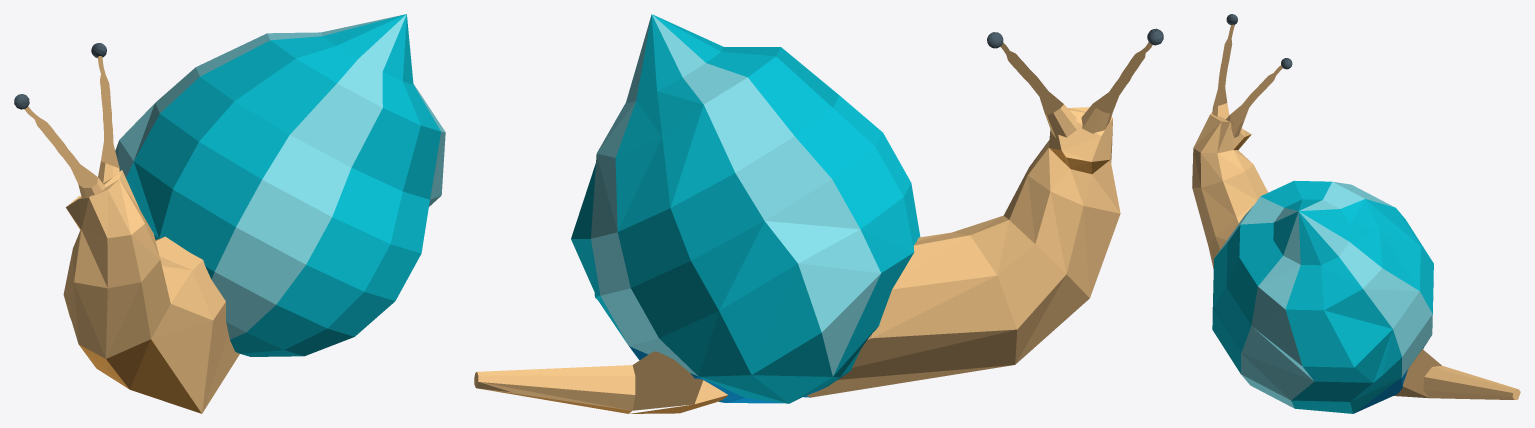
File: Snail.glb
The picture shows the model from 3 angles, left to right: view 1: azimuth 30°, elevation 25°; view 2: azimuth 150°, elevation 25°; view 3: azimuth 270°, elevation 25°; orthographic projection. The views are drawn at different scales.
Parts seen in each view (by area): view 1: Node; view 2: Node; view 3: Node.
Boxes of the visible parts, <box> form: Node: <box>14,14,445,413</box>; Node: <box>474,14,1163,413</box>; Node: <box>1192,14,1520,413</box>.
Bounding box in the file's own units: 1.04 × 0.7752 × 0.8488.
